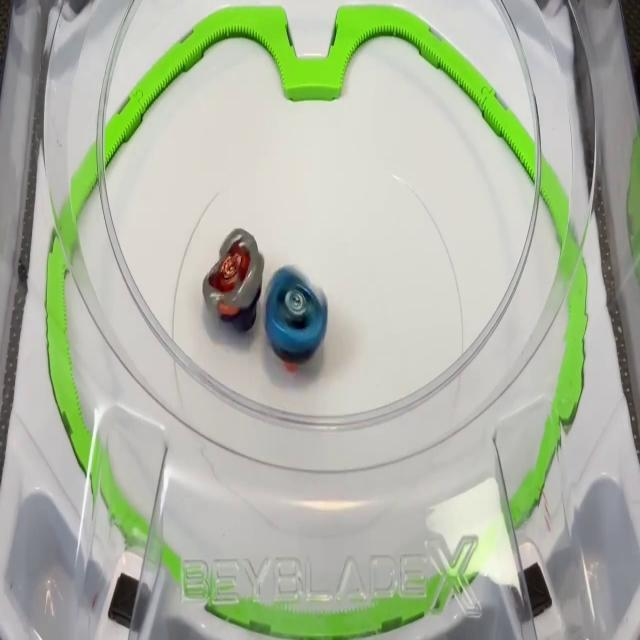Beyblade: (201, 228, 264, 332), (264, 267, 328, 368)
